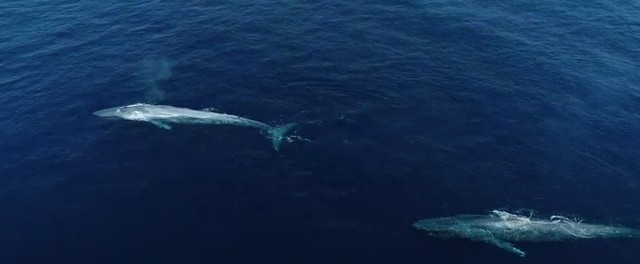whale: (407, 198, 639, 260), (87, 100, 309, 155)
